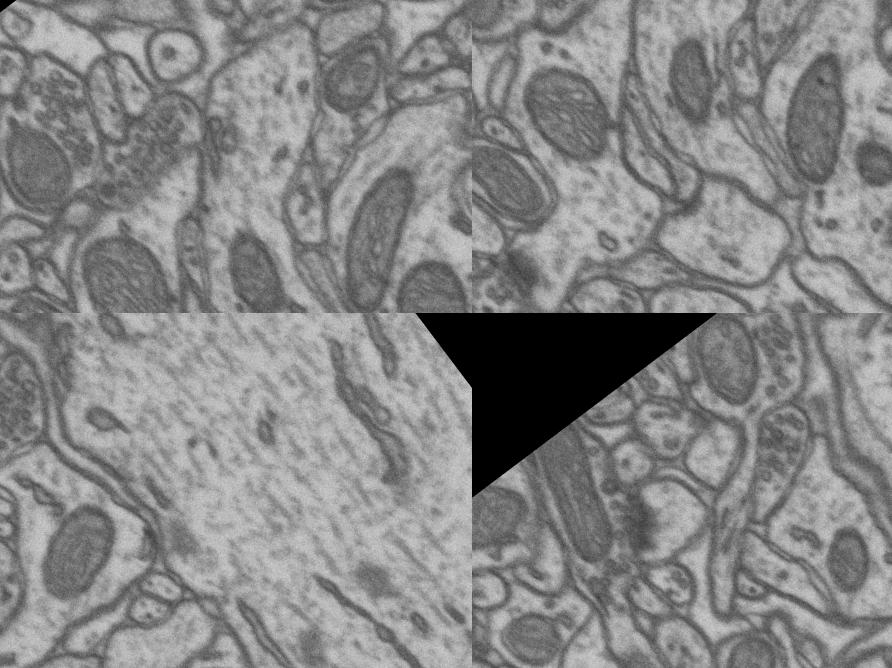mitochondria: (287, 145, 472, 313), (501, 414, 660, 580), (737, 37, 892, 201), (500, 41, 641, 189), (22, 468, 155, 600), (337, 313, 472, 418), (55, 214, 198, 313), (633, 18, 748, 140), (472, 462, 563, 602), (668, 313, 787, 418), (472, 121, 562, 247), (0, 109, 95, 227), (299, 25, 407, 128), (200, 221, 311, 313), (795, 490, 892, 592), (479, 581, 587, 668), (369, 236, 472, 313), (0, 115, 36, 272), (692, 625, 792, 668), (839, 124, 892, 205), (0, 544, 48, 632), (302, 0, 410, 28), (0, 279, 88, 313)
